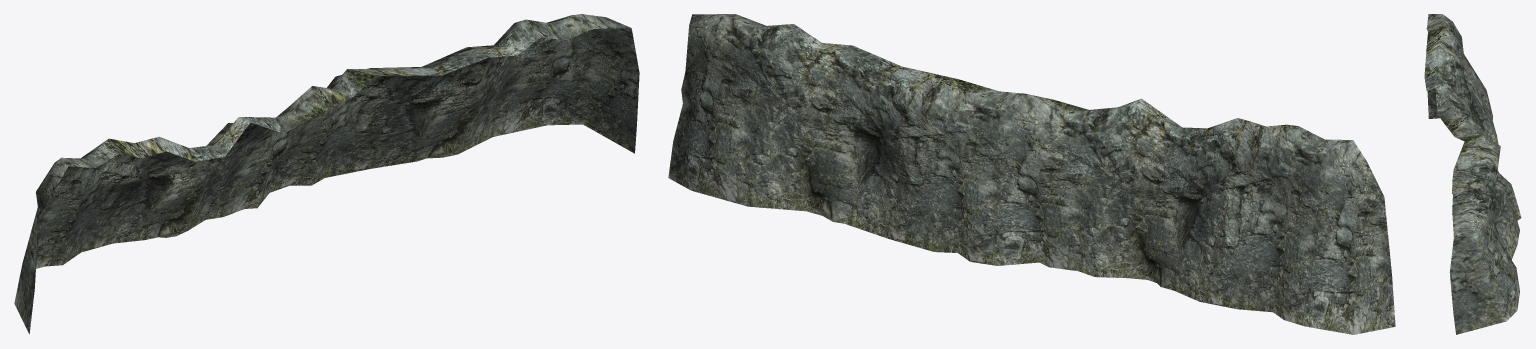
Rendered from rock_02.FBX.
The picture shows the model from 3 angles, left to right: view 1: azimuth 30°, elevation 25°; view 2: azimuth 150°, elevation 25°; view 3: azimuth 270°, elevation 25°; orthographic projection. The views are drawn at different scales.
Visible parts, largest first — view 1: Rock02; view 2: Rock02; view 3: Rock02.
Part boxes in pixels (<box>): Rock02: <box>14,14,639,334</box>; Rock02: <box>668,14,1395,334</box>; Rock02: <box>1424,14,1521,334</box>.
Bounding box in the file's own units: 88.17 × 22.66 × 15.89.
